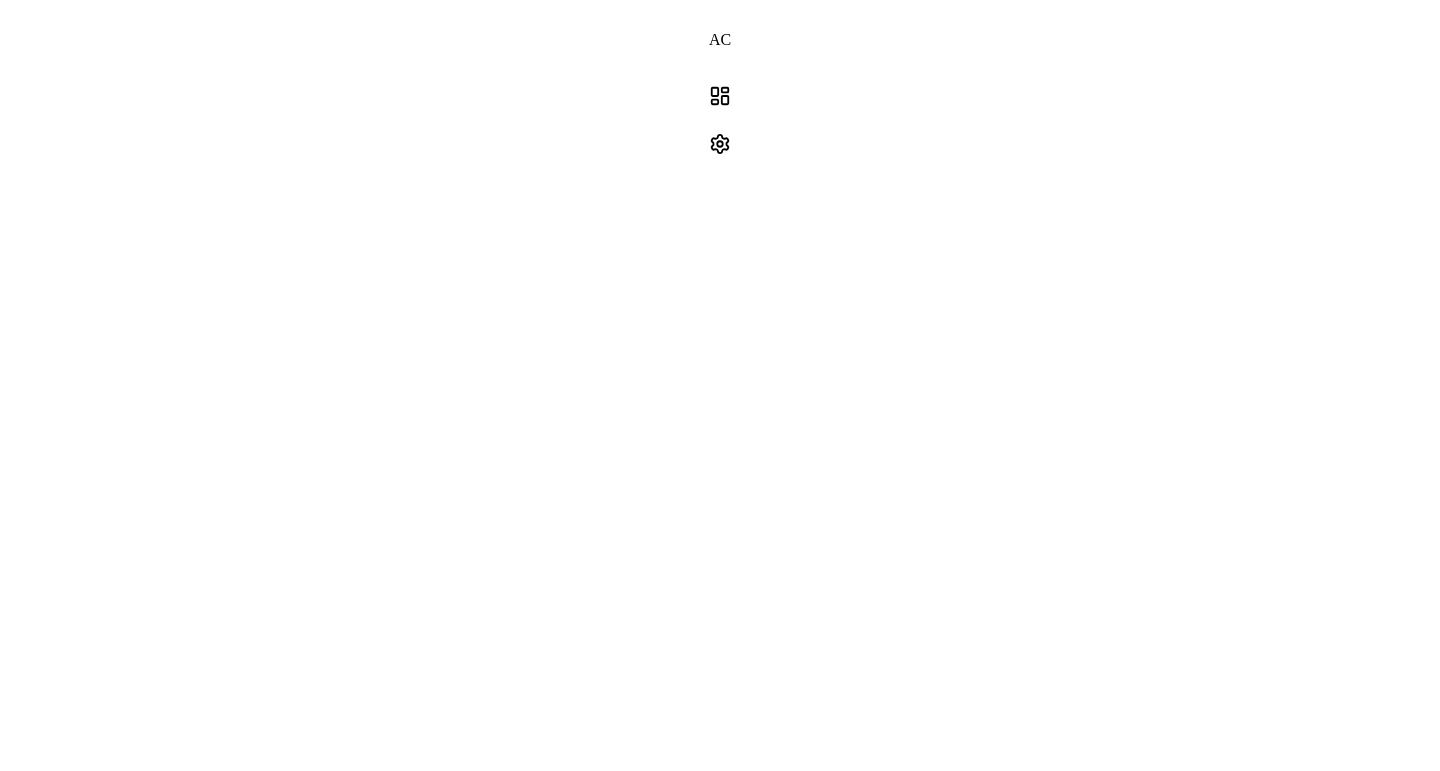
Scenario: RailShell (en) › fly-outs with the pointer › keeps a fly-out open after a click until it is toggled or dismissed, and a second click closes it
Click the button named "Planning": [720, 96] box [8,72,1432,120]
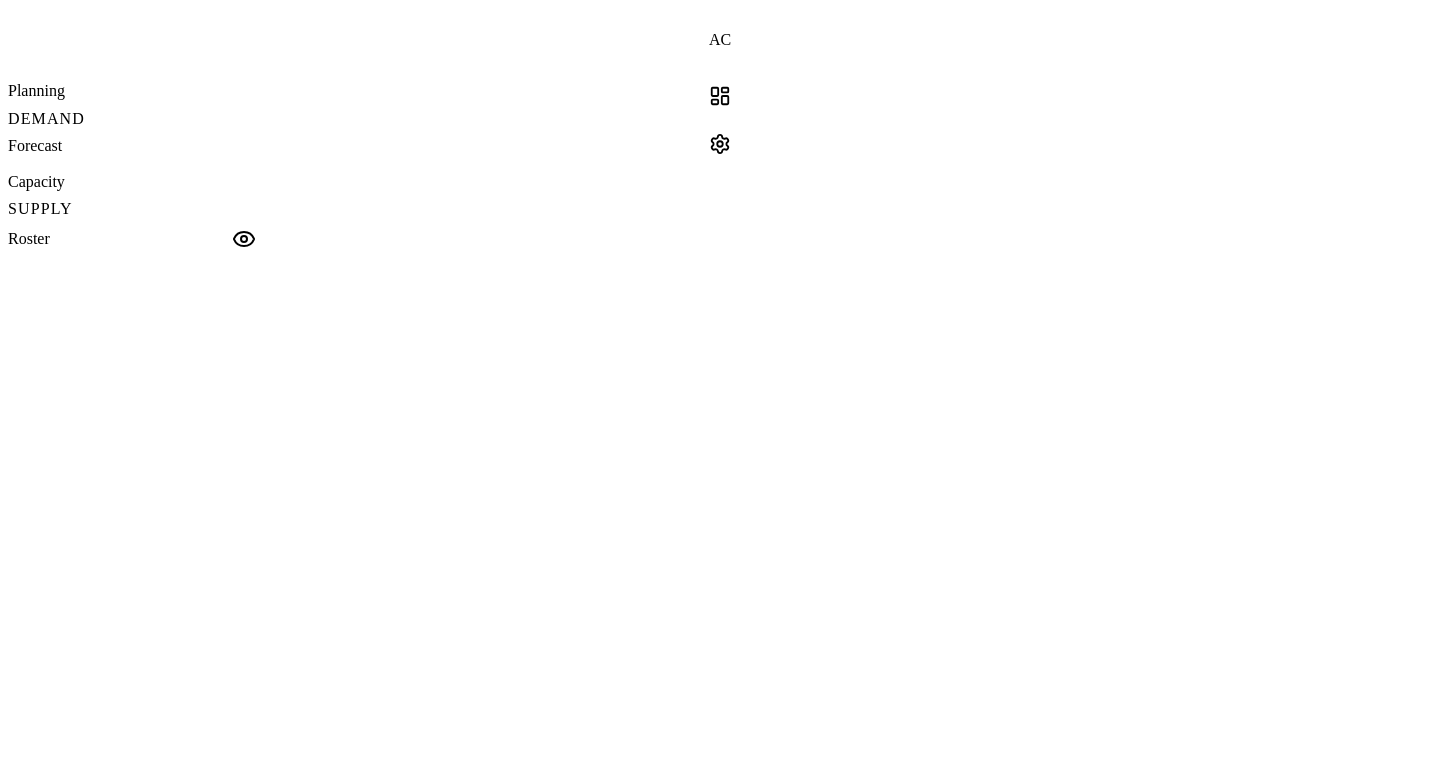
Expected: the element "Planning" is shown, [8,72,256,260]
Move the pointer off the button named "Planning", box [8,72,1432,120]
Expected: the element "Planning" is shown, [8,72,256,260]
Click the button named "Planning": [720, 96] box [8,72,1432,120]
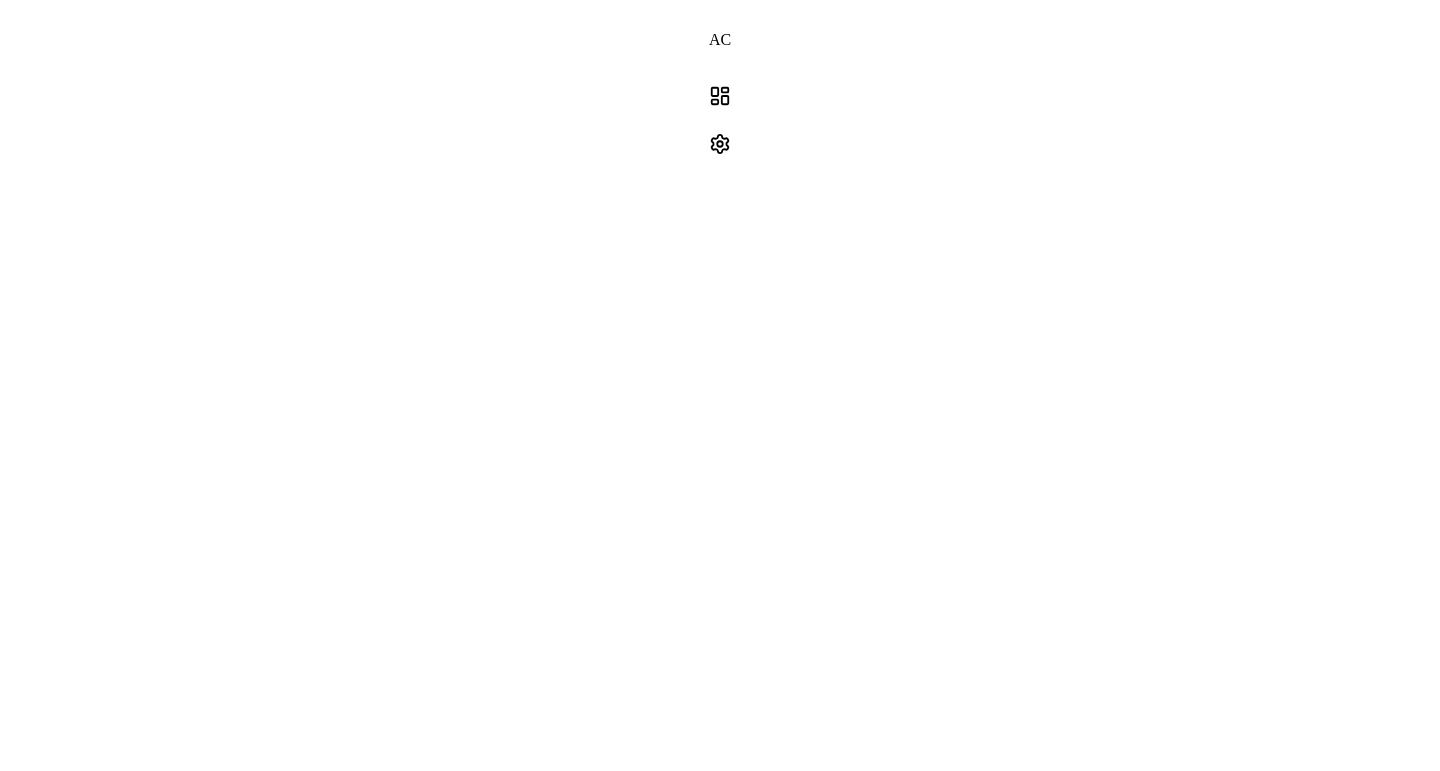
Expected: the text "Planning" is gone
